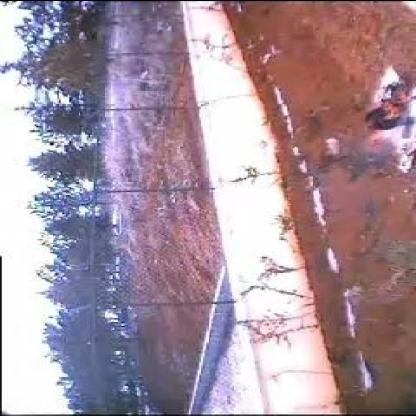-: (348, 148, 364, 164)
foggia-v2-map80-epoch100 - v1 4323: (368, 132, 382, 149)
